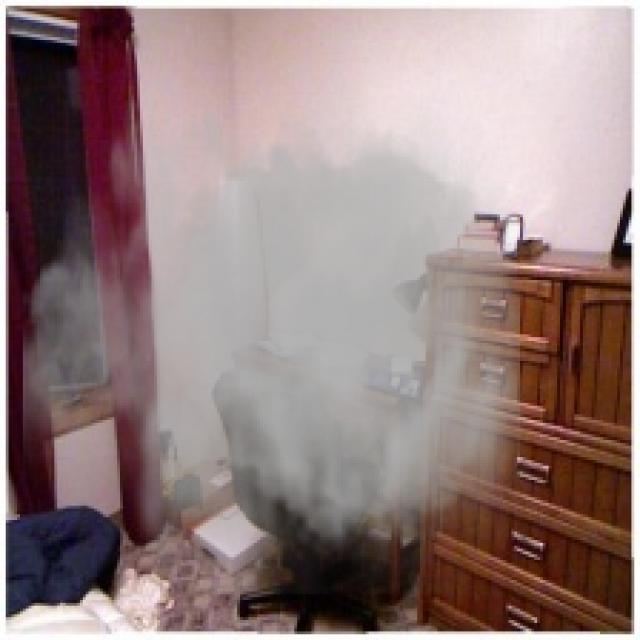smoke: (23, 46, 551, 594)
